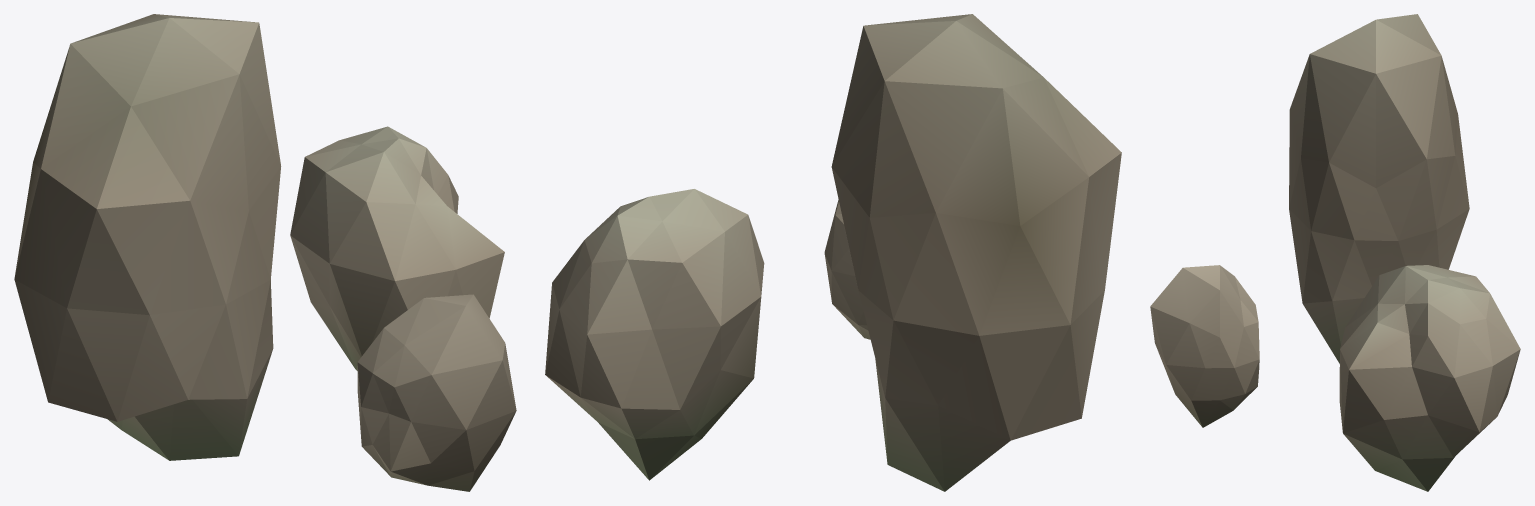
File: prop_rock_cluster_broken_01.glb
3 renders of one model, left to right at view 1: azimuth 30°, elevation 25°; view 2: azimuth 150°, elevation 25°; view 3: azimuth 270°, elevation 25°, orthographic. The views are drawn at different scales.
Parts seen in each view (by area): view 1: prop_rock_cluster_broken_01; view 2: prop_rock_cluster_broken_01; view 3: prop_rock_cluster_broken_01.
Part boxes in pixels (x1,y1,x2,y2): prop_rock_cluster_broken_01: (14, 14, 516, 491); prop_rock_cluster_broken_01: (545, 14, 1121, 491); prop_rock_cluster_broken_01: (1150, 14, 1520, 491).
Size of the model in its own units: 0.6473 by 0.6331 by 0.5694.
